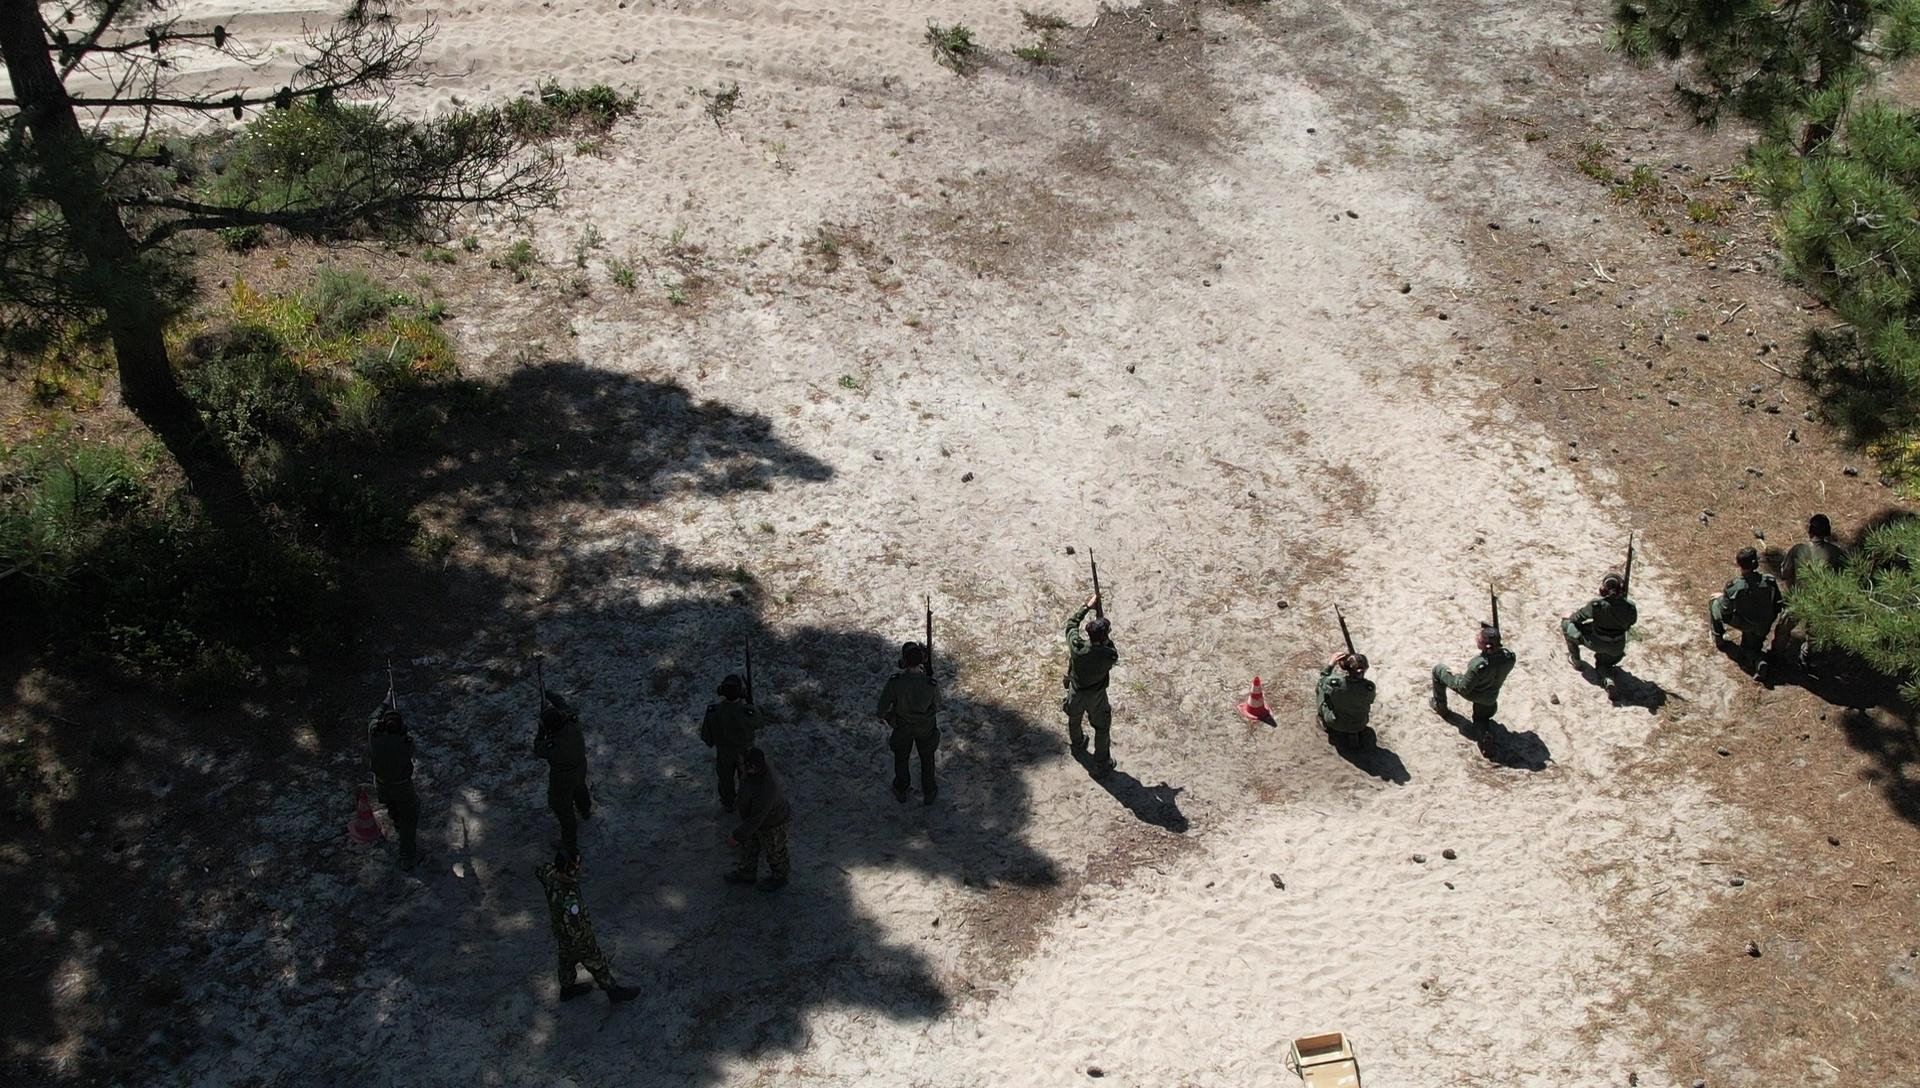Soldier: (338, 630, 440, 884), (506, 837, 644, 1023), (1304, 583, 1404, 795), (698, 740, 812, 922), (1044, 578, 1135, 801), (1429, 584, 1530, 783), (517, 677, 612, 885), (1560, 534, 1660, 721), (703, 641, 782, 866), (876, 619, 953, 812), (1722, 543, 1805, 696), (1785, 492, 1854, 611)
